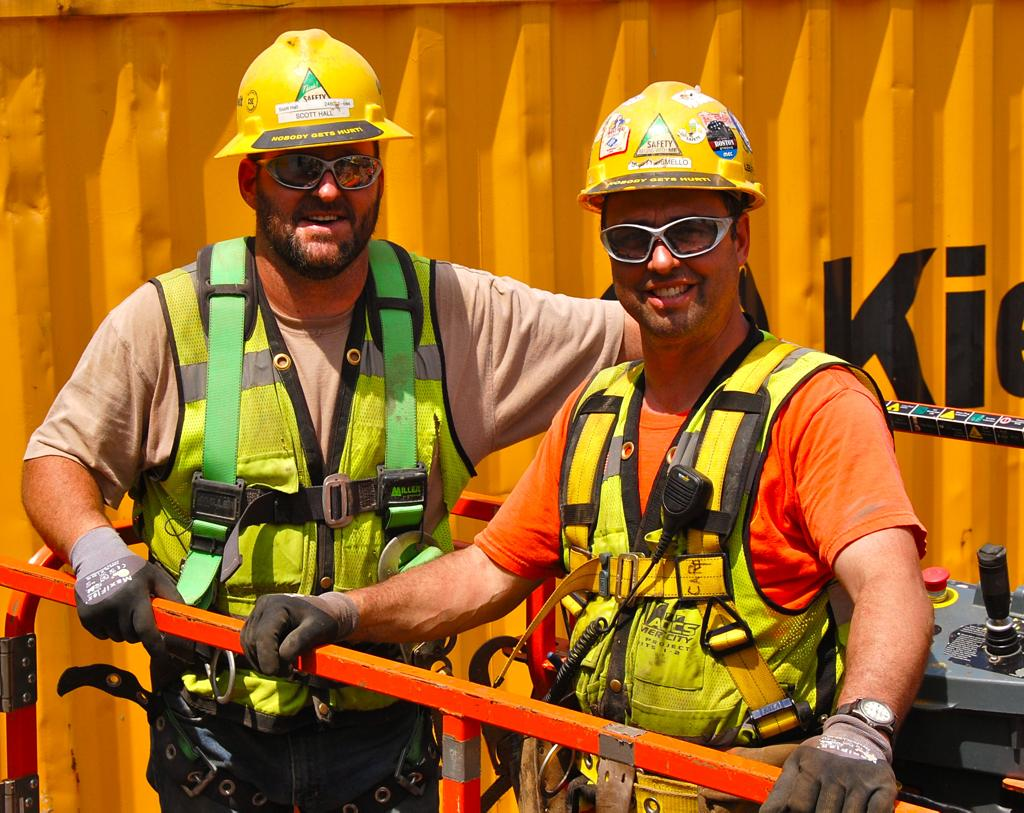face: (614, 164, 732, 318), (262, 110, 372, 256)
